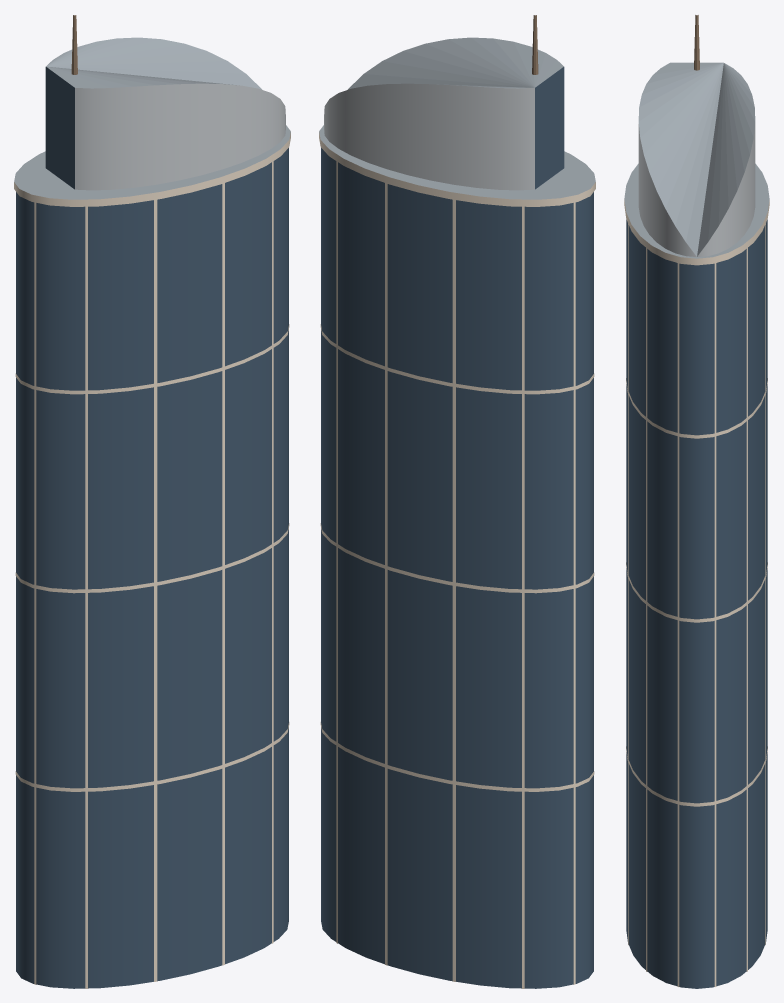
File: van-one-wall-centre.glb
3 renders of one model, left to right at view 1: azimuth 30°, elevation 25°; view 2: azimuth 150°, elevation 25°; view 3: azimuth 270°, elevation 25°, orthographic. The views are drawn at different scales.
Parts seen in each view (by area): view 1: One Wall Centre; view 2: One Wall Centre; view 3: One Wall Centre.
Boxes of the visible parts, x1,y1,x2,y2 form: One Wall Centre: [14, 15, 290, 988]; One Wall Centre: [319, 15, 595, 988]; One Wall Centre: [624, 15, 769, 988].
Size of the model in its own units: 46.2 by 158 by 23.6.
